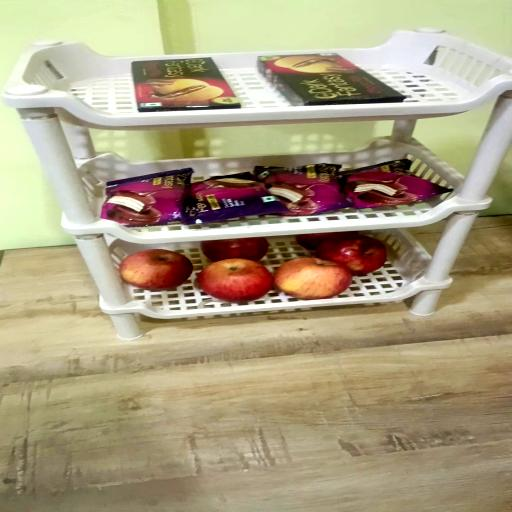Apple: (197, 260, 273, 304), (274, 258, 352, 300), (121, 250, 193, 292), (317, 235, 386, 275), (203, 239, 270, 264), (297, 231, 348, 251)
Choco Fills: (258, 53, 407, 105), (134, 57, 243, 112)
Choco Pie: (185, 174, 288, 227), (340, 158, 451, 206), (100, 171, 190, 228), (255, 163, 348, 216)
